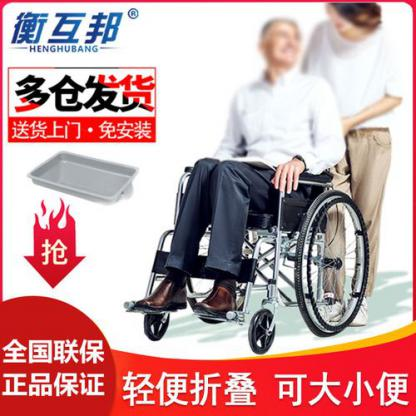wheelchair: (154, 7, 371, 350)
